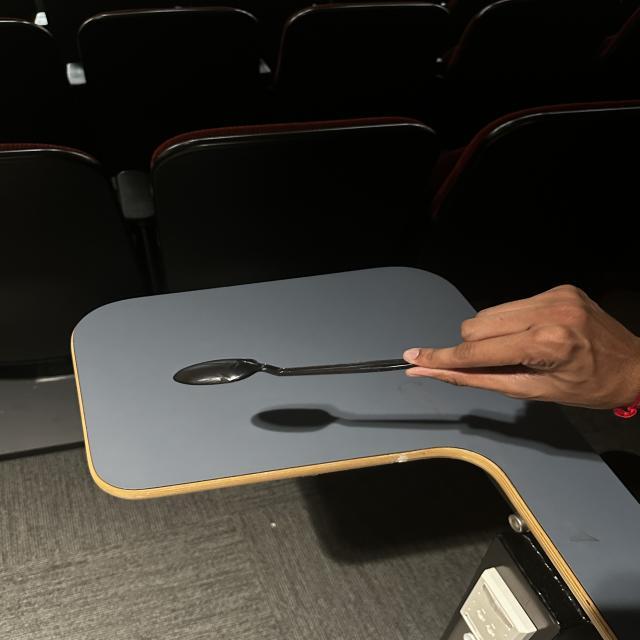spoon: (140, 328, 480, 426)
